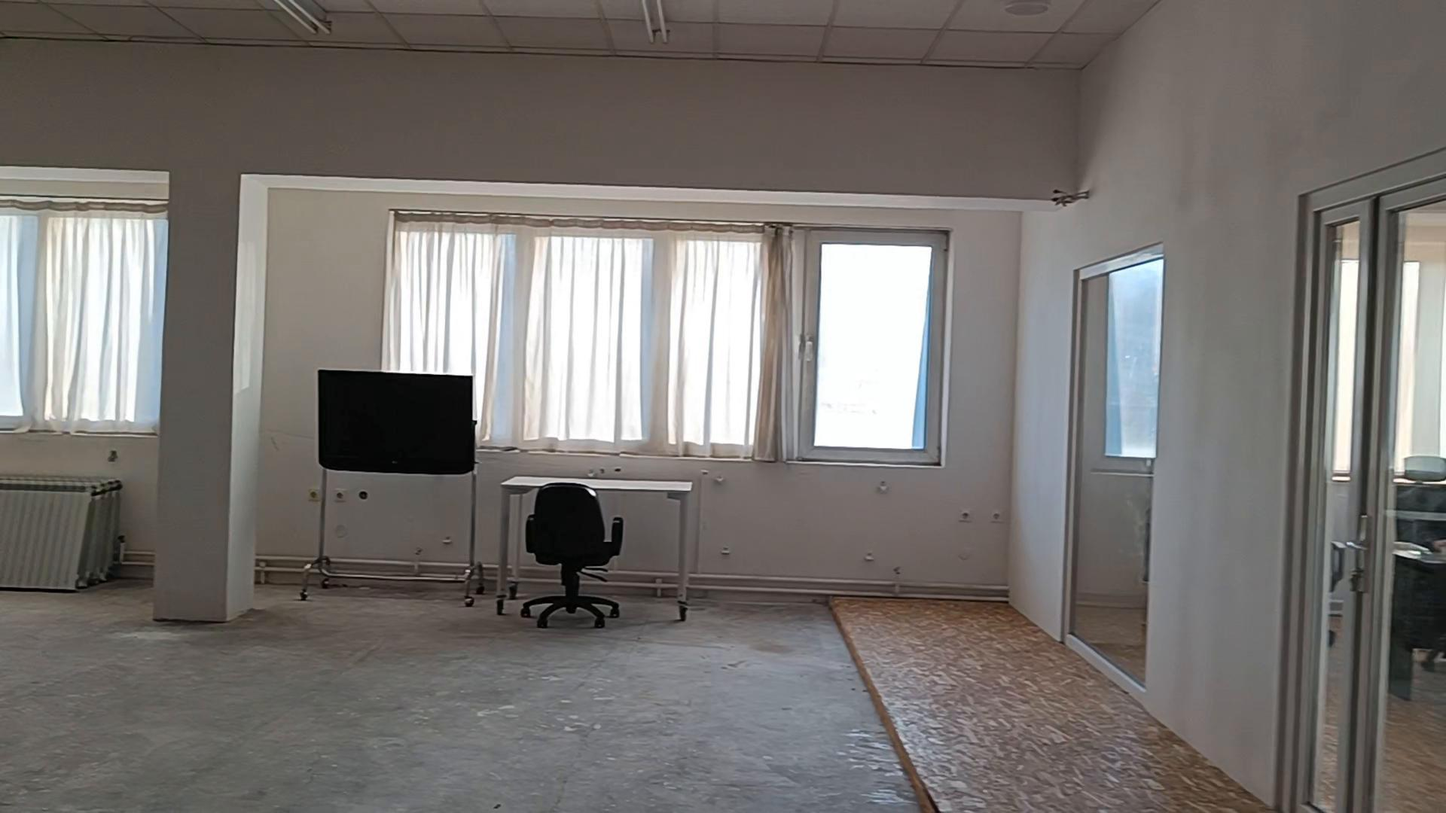ceiling: (0, 0, 1158, 68)
floor: (0, 584, 1264, 812)
wall: (1, 0, 1445, 803)
